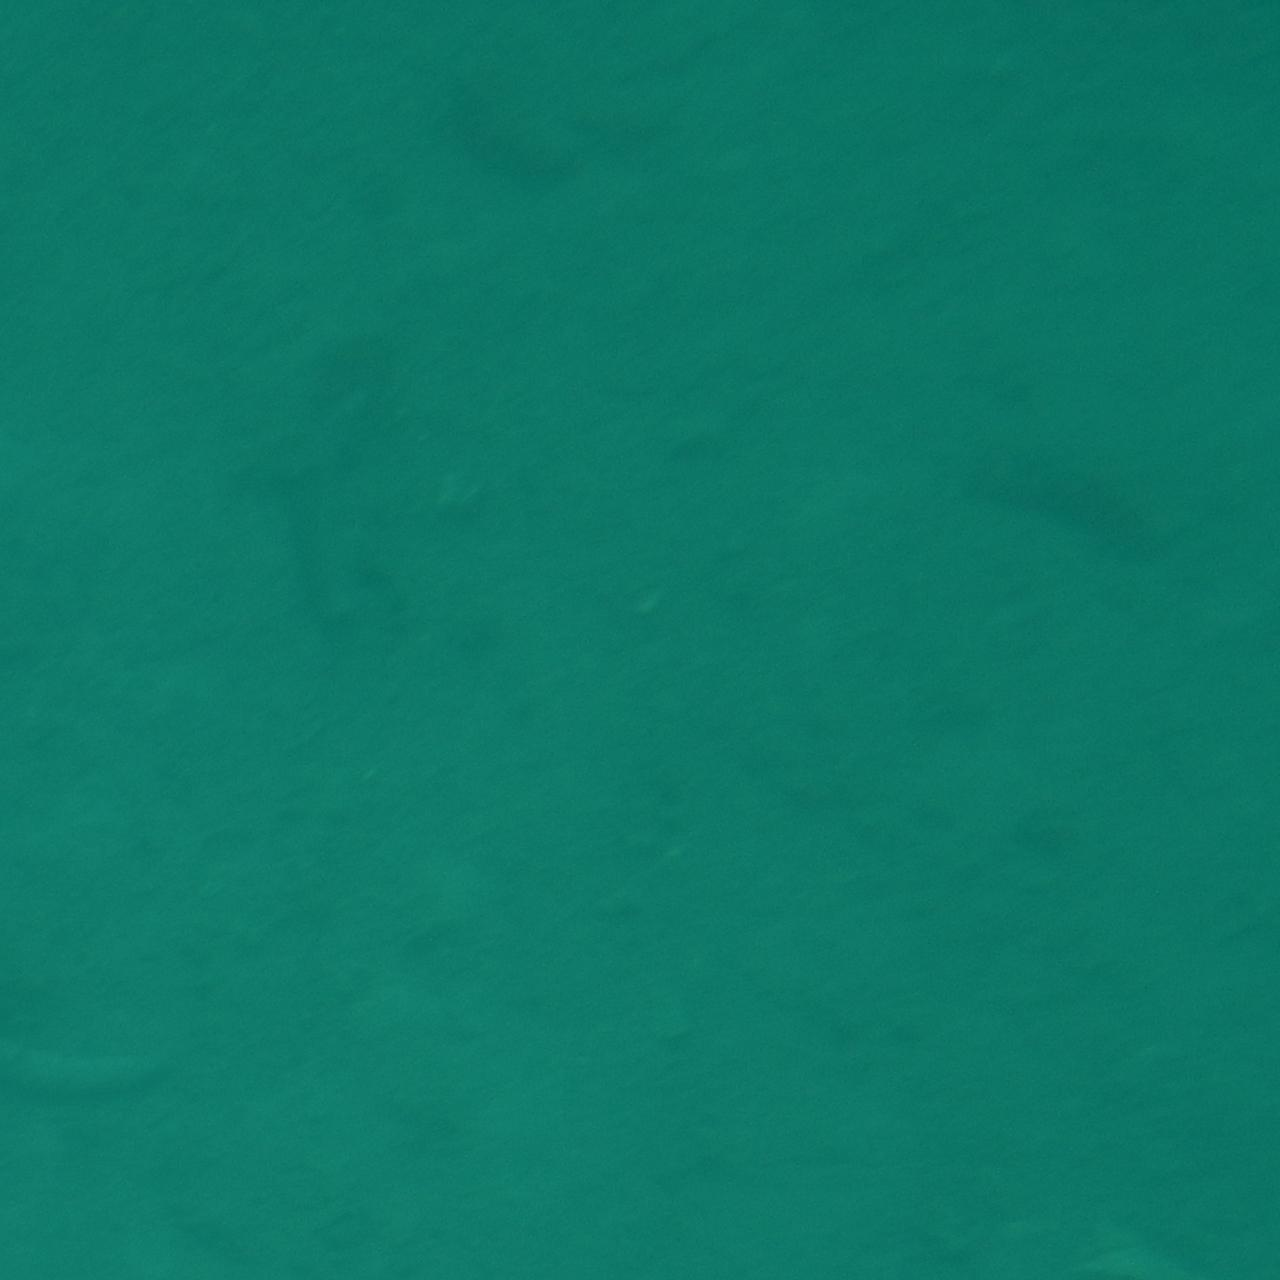Holothuria tubulosa: (978, 454, 1223, 545)
